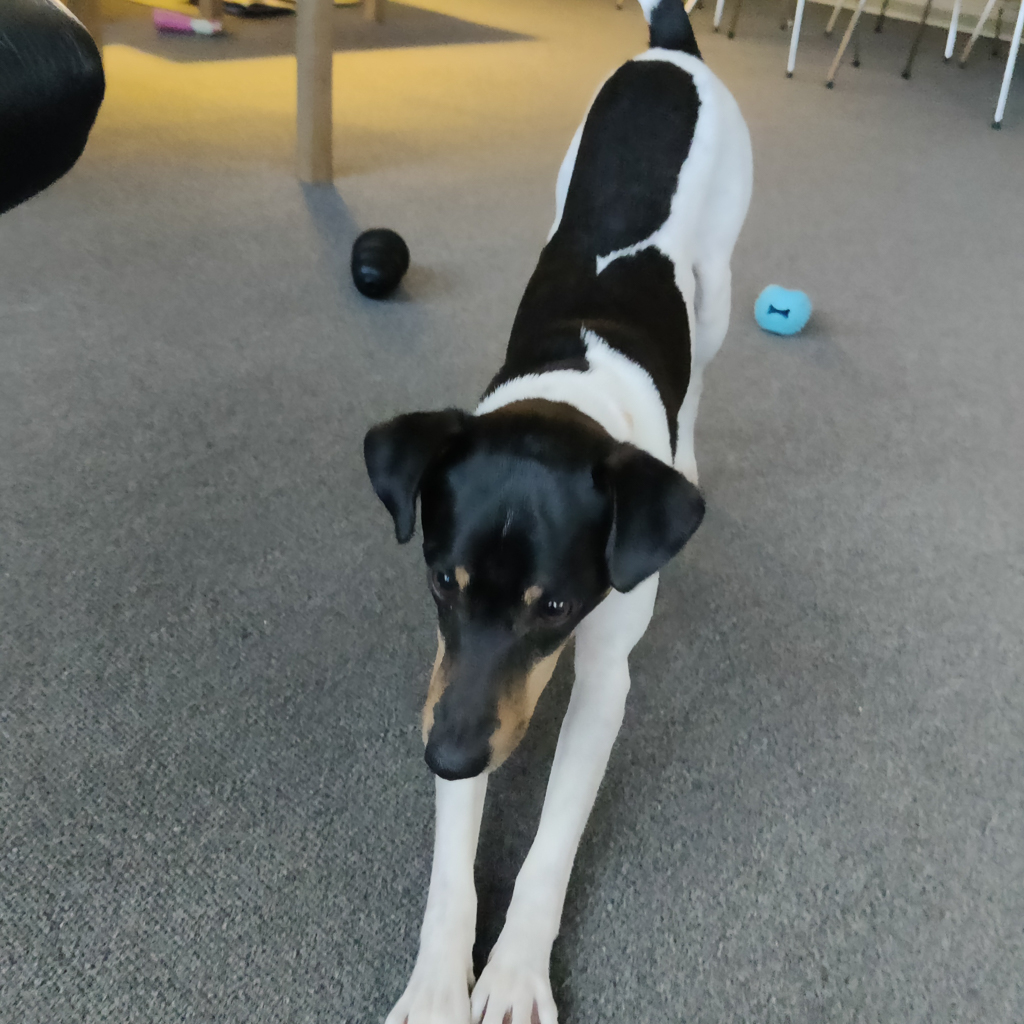Dog: (302, 0, 786, 1024)
